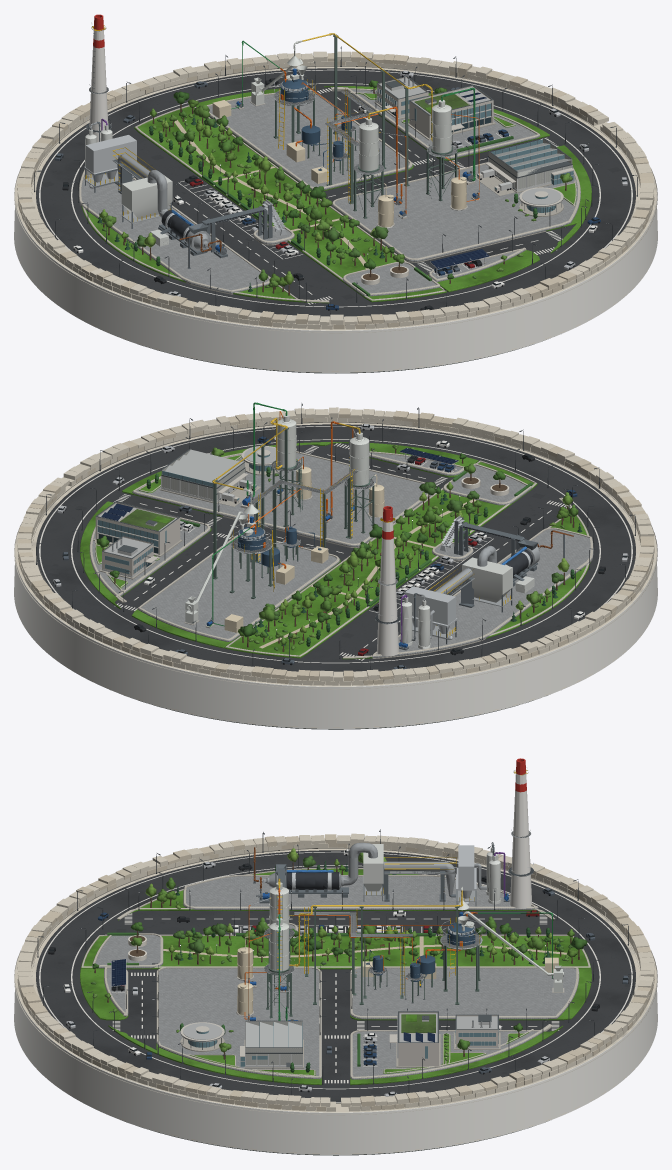
Rendered from maket.glb.
The picture shows the model from 3 angles, top to bottom: view 1: azimuth 30°, elevation 25°; view 2: azimuth 150°, elevation 25°; view 3: azimuth 270°, elevation 25°; orthographic projection.
Parts seen in each view (by area): view 1: asphalt, stand, paving, stone, lawn, kerb, stone2, plant-frame (×2), line, plant-frp, facade, plant-grating (×2) (+30 smaller); view 2: asphalt, stand, paving, stone, lawn, kerb, stone2, plant-frame (×2), line, plant-frp, plant-clad, roof (+29 smaller); view 3: asphalt, paving, stand, stone, lawn, kerb, stone2, plant-frame (×2), line, roof, plant-frp, plant-grating (×2) (+24 smaller).
Boxes of the visible parts, <box> form: asphalt: <box>36,68,635,318</box>; stand: <box>14,68,657,372</box>; paving: <box>78,90,580,296</box>; stone: <box>15,51,656,330</box>; lawn: <box>81,86,591,303</box>; kerb: <box>14,65,657,333</box>; stone2: <box>17,51,654,329</box>; plant-frame (×2): <box>85,33,457,268</box>; line: <box>39,69,632,307</box>; plant-frp: <box>251,40,452,170</box>; facade: <box>377,77,574,207</box>; plant-grating (×2): <box>84,22,457,223</box>; asphalt: <box>36,424,635,675</box>; stand: <box>14,424,657,728</box>; paving: <box>89,453,593,657</box>; stone: <box>15,407,656,686</box>; lawn: <box>80,442,590,659</box>; kerb: <box>14,421,657,689</box>; stone2: <box>17,408,654,684</box>; plant-frame (×2): <box>212,419,564,647</box>; line: <box>39,426,632,663</box>; plant-frp: <box>185,414,369,624</box>; plant-clad: <box>400,557,534,649</box>; roof: <box>99,446,275,557</box>; asphalt: <box>36,850,635,1102</box>; paving: <box>92,876,579,1079</box>; stand: <box>14,850,657,1154</box>; stone: <box>15,833,656,1112</box>; lawn: <box>80,868,591,1085</box>; kerb: <box>14,847,657,1115</box>; stone2: <box>17,834,654,1111</box>; plant-frame (×2): <box>250,831,533,1018</box>; line: <box>39,851,632,1102</box>; roof: <box>183,1013,497,1048</box>; plant-frp: <box>269,882,563,992</box>; plant-grating (×2): <box>250,767,533,993</box>.
Bounding box in the file's own units: 1.01 × 0.3297 × 1.01.
Materials: 92 (12 with a texture image).
